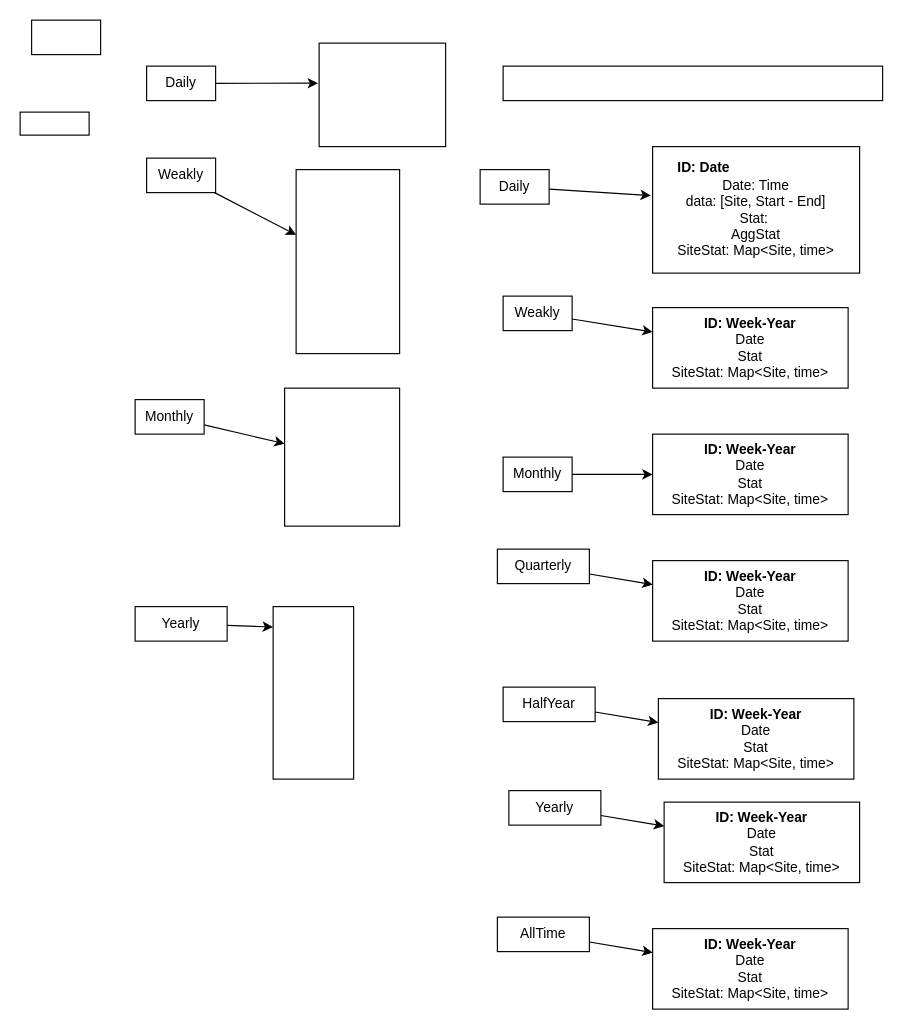
This 903x1029 diagram has some shape labels left out. Here are the shapes that lost their labels. From the top down, the box of each, then its label:
(30, 19, 101, 55): Session
(318, 42, 446, 147): ID: Date Date: Time data: [Start - End] Stat AggStat
(502, 65, 883, 101): Tracker
(19, 111, 89, 135): Site
(295, 168, 400, 354): ID: Week-Year Date Stat AggStat Monday Tuesday AggMonday AggTuesday
(283, 387, 400, 526): ID: Month-Year Date Stat AggStat Sep Oct AggSep AggOct
(272, 605, 354, 779): ID: Year Date Stat AggStat 2023 2024 Agg2023 Agg2024
